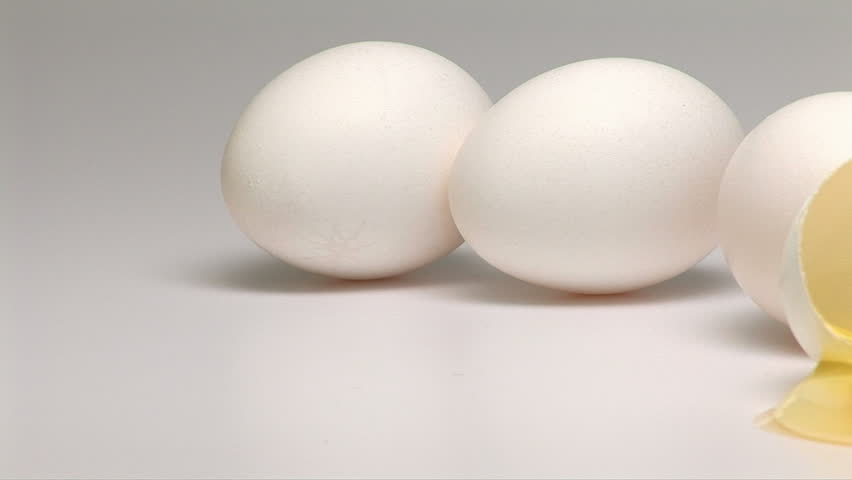Egg: (213, 29, 500, 284)
